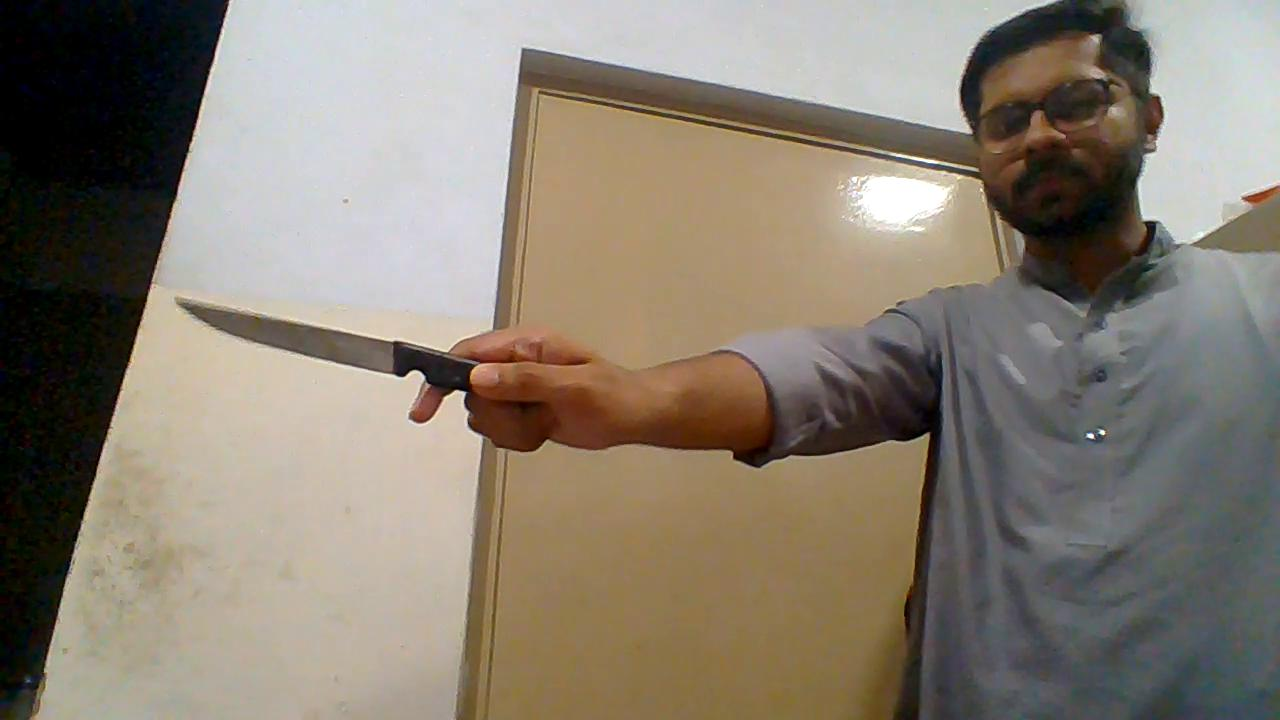criminal: (172, 0, 1280, 720)
weapon: (173, 292, 481, 395)
